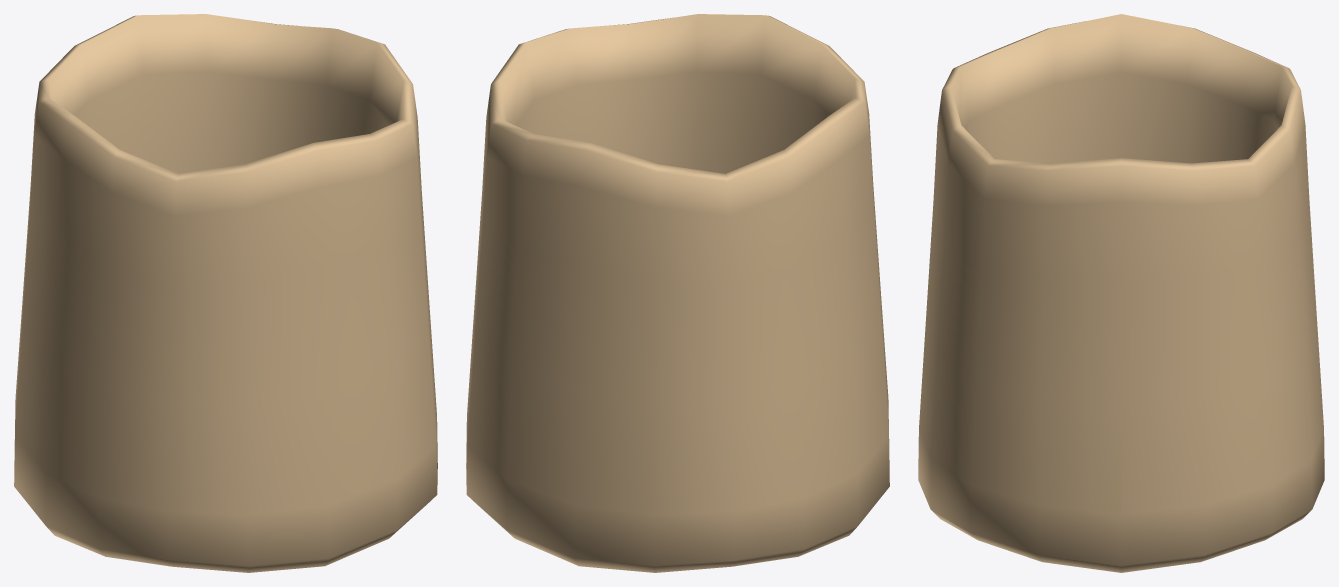
Rendered from LargeGlass.fbx.
The picture shows the model from 3 angles, left to right: view 1: azimuth 30°, elevation 25°; view 2: azimuth 150°, elevation 25°; view 3: azimuth 270°, elevation 25°; orthographic projection. The views are drawn at different scales.
Visible parts, largest first — view 1: LargeGlass; view 2: LargeGlass; view 3: LargeGlass.
Part boxes in pixels (bbox=[...]): LargeGlass: bbox=[14, 14, 437, 572]; LargeGlass: bbox=[466, 14, 889, 572]; LargeGlass: bbox=[918, 14, 1324, 572].
Bounding box in the file's own units: 10.55 × 11.69 × 10.55.
